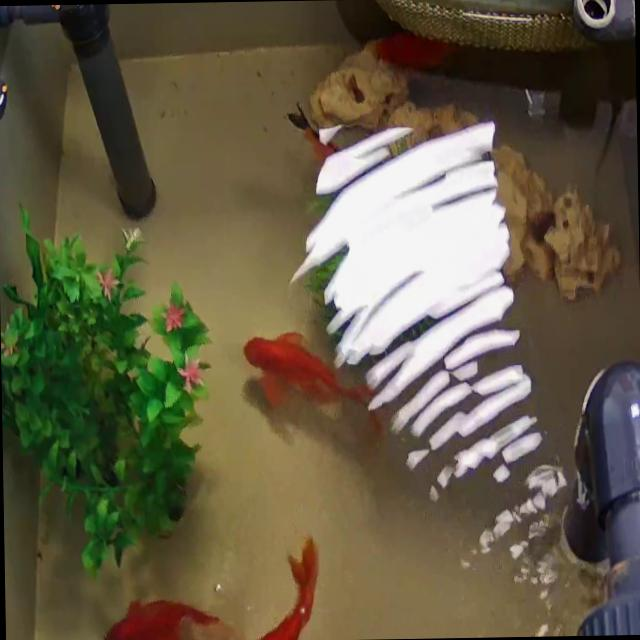fish: (205, 530, 316, 640), (247, 330, 348, 412), (100, 595, 229, 640), (377, 30, 456, 72), (288, 101, 334, 167)
